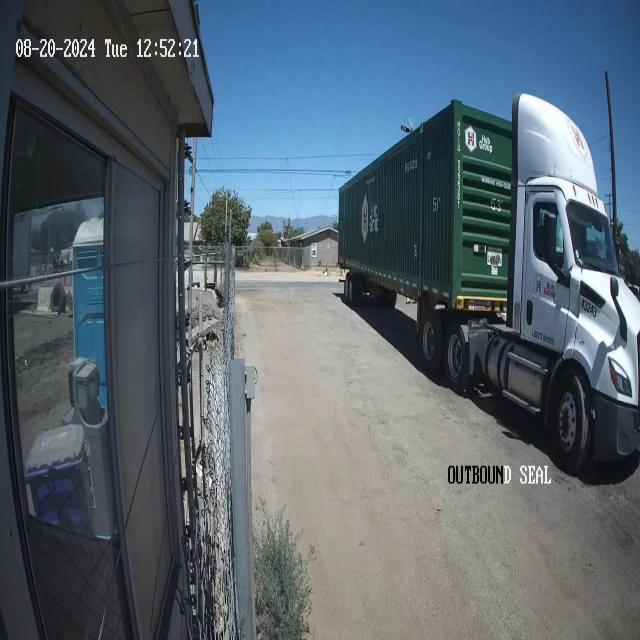TRUCK_IN: (337, 90, 639, 476)
